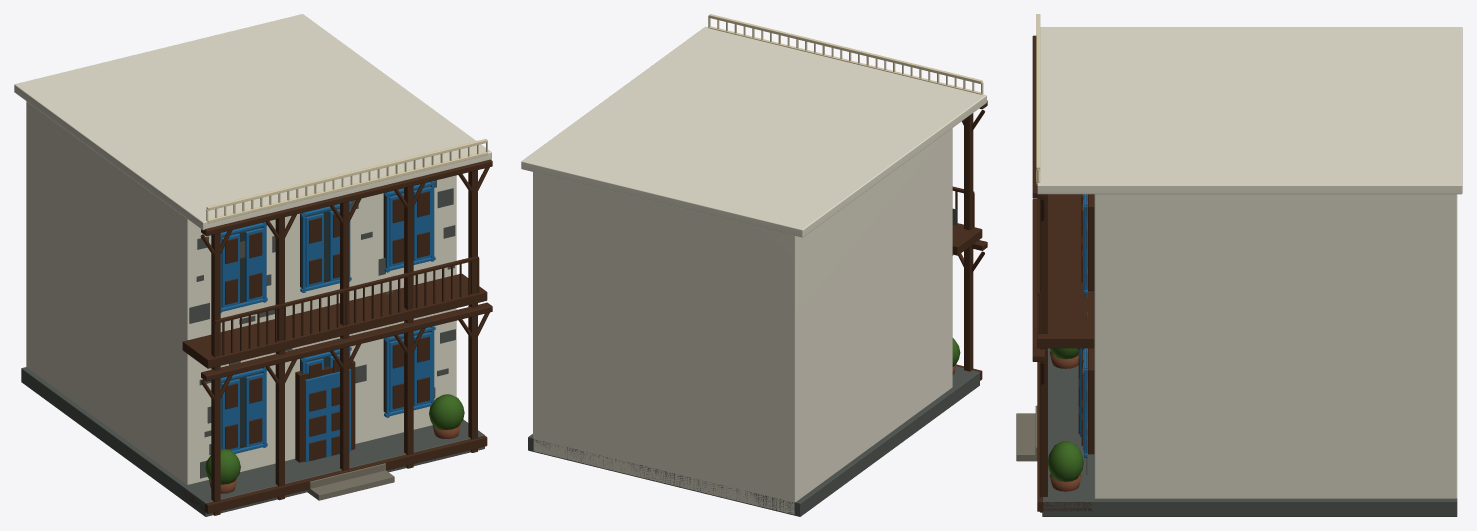
The model's file is weathered-house.glb.
3 views of the same model, side by side, from view 1: azimuth 30°, elevation 25°; view 2: azimuth 150°, elevation 25°; view 3: azimuth 270°, elevation 25° (orthographic). The views are drawn at different scales.
Parts seen in each view (by area): view 1: Surface_Lime_plaster, Surface_Timber, Surface_Painted_joinery, Surface_Basalt, Surface_Trim, Surface_Foliage, Surface_Stone_paving, Surface_Recessed_glazing; view 2: Surface_Lime_plaster, Surface_Basalt, Surface_Timber, Surface_Trim; view 3: Surface_Lime_plaster, Surface_Timber, Surface_Basalt, Surface_Foliage, Surface_Painted_joinery, Surface_Stone_paving, Surface_Trim, Surface_Roof_tiles.
Boxes of the visible parts, <box> form: Surface_Lime_plaster: <box>14,14,491,484</box>; Surface_Timber: <box>182,159,492,515</box>; Surface_Painted_joinery: <box>220,181,435,462</box>; Surface_Basalt: <box>21,180,484,516</box>; Surface_Trim: <box>206,139,487,223</box>; Surface_Foliage: <box>205,394,464,484</box>; Surface_Stone_paving: <box>307,463,394,500</box>; Surface_Recessed_glazing: <box>222,189,428,446</box>; Surface_Lime_plaster: <box>521,26,986,514</box>; Surface_Basalt: <box>528,208,979,516</box>; Surface_Timber: <box>952,100,987,380</box>; Surface_Trim: <box>708,14,983,94</box>; Surface_Lime_plaster: <box>1037,27,1462,498</box>; Surface_Timber: <box>1032,35,1094,512</box>; Surface_Basalt: <box>1042,194,1457,516</box>; Surface_Foliage: <box>1048,348,1083,481</box>; Surface_Painted_joinery: <box>1080,194,1087,457</box>; Surface_Stone_paving: <box>1016,405,1037,461</box>; Surface_Trim: <box>1036,14,1040,184</box>; Surface_Roof_tiles: <box>1049,351,1081,491</box>.
Size of the model in its own units: 7.24 by 7.44 by 8.6.
